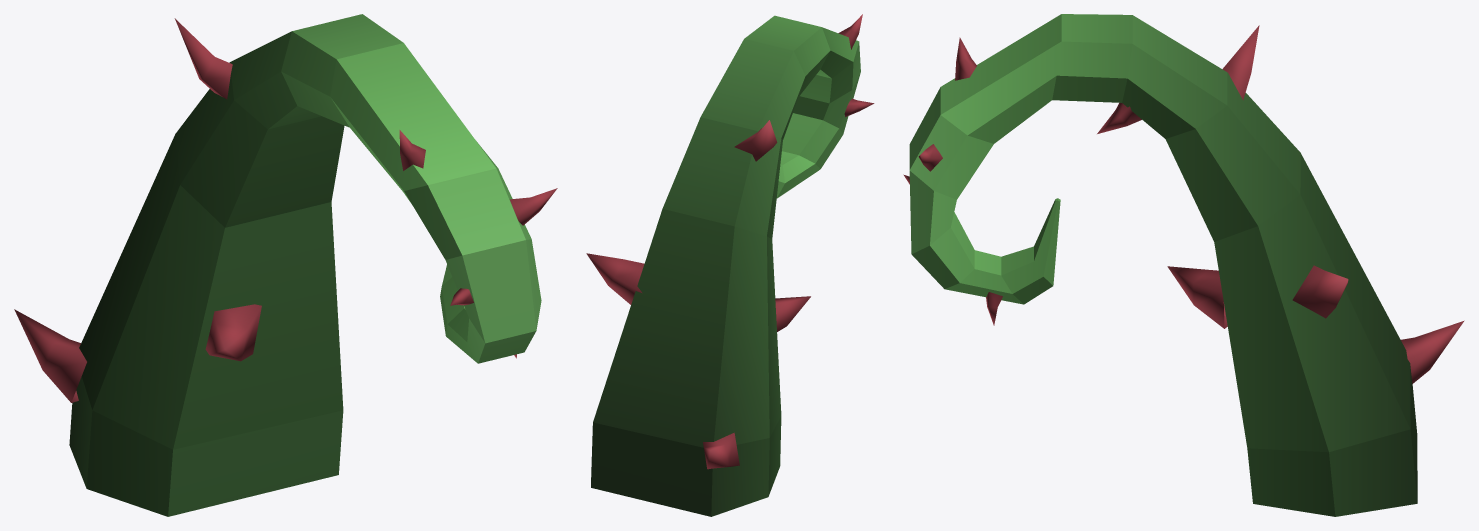
Rendered from Thorn_B_1.fbx.
3 renders of one model, left to right at view 1: azimuth 30°, elevation 25°; view 2: azimuth 150°, elevation 25°; view 3: azimuth 270°, elevation 25°, orthographic. The views are drawn at different scales.
Visible parts, largest first — view 1: Thorn_B_1; view 2: Thorn_B_1; view 3: Thorn_B_1.
Boxes of the visible parts, x1=… form: Thorn_B_1: x1=14, y1=14, x2=557, y2=516; Thorn_B_1: x1=586, y1=14, x2=874, y2=516; Thorn_B_1: x1=903, y1=14, x2=1464, y2=516.
Bounding box in the file's own units: 15.32 × 30.78 × 35.41.
